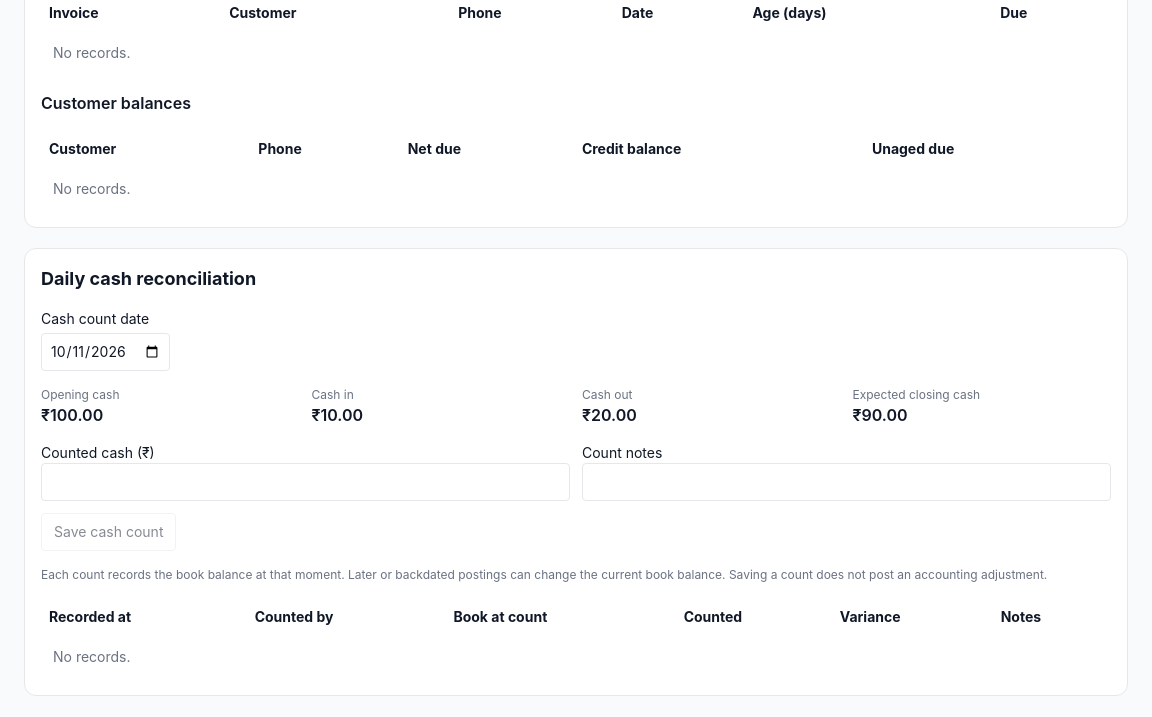
Test: shows ledger-reconciled dues and saves a counted cash variance with its explanation
(page scrolled)
Expected: the text "Expected closing cash" is shown, [852,387,980,402]
Type "85" into the number field labelled "Counted cash (₹)".
click(306, 482); type("85")  # box [41,463,570,501]
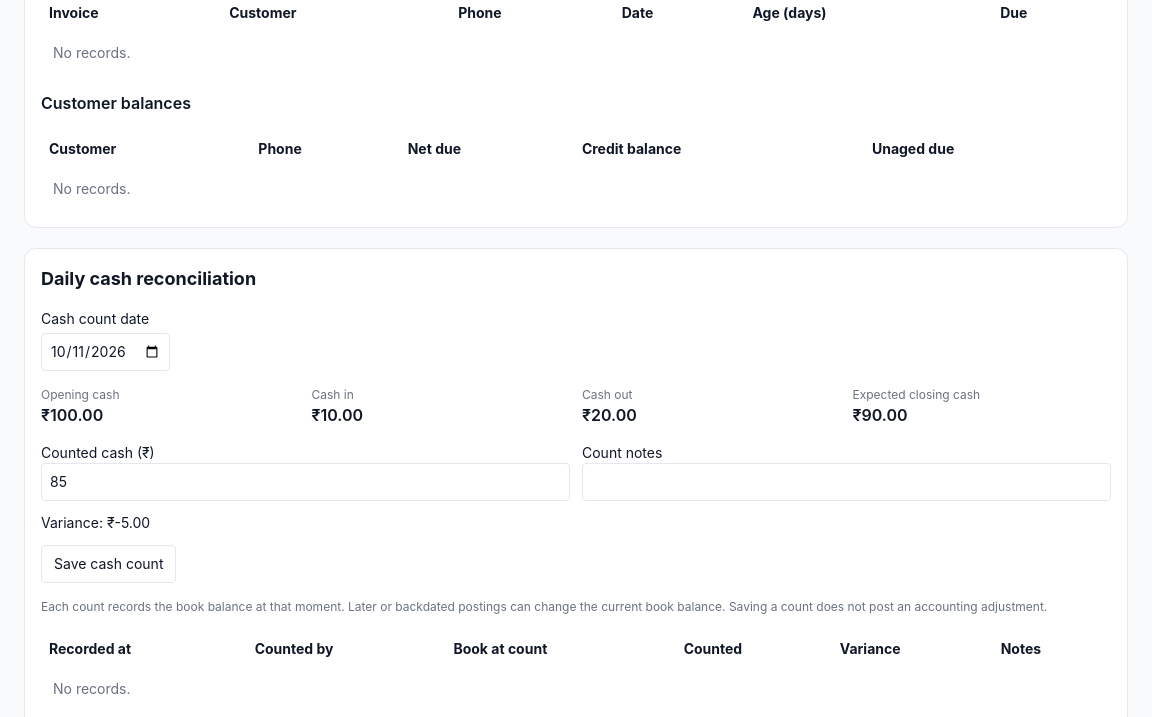
Type "Five rupees short." into the field labelled "Count notes".
click(846, 482); type("Five rupees short.")  # box [582,463,1111,501]
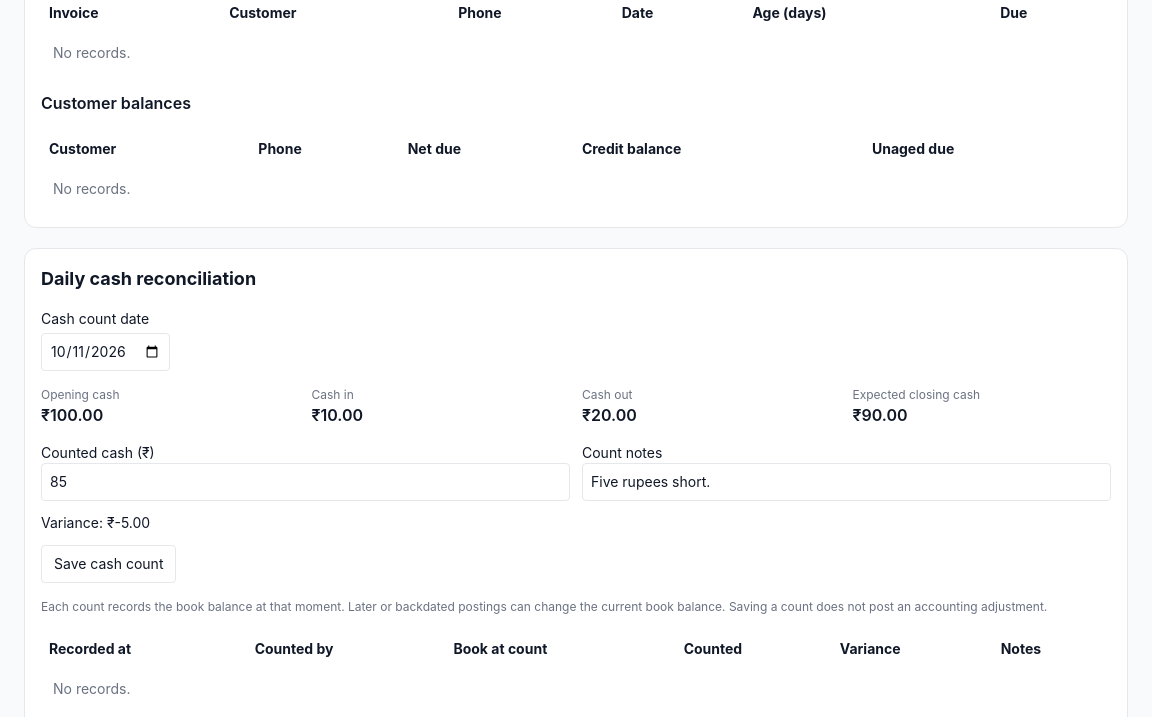
Click the button "Save cash count".
click(109, 564)  # box [41,545,176,583]
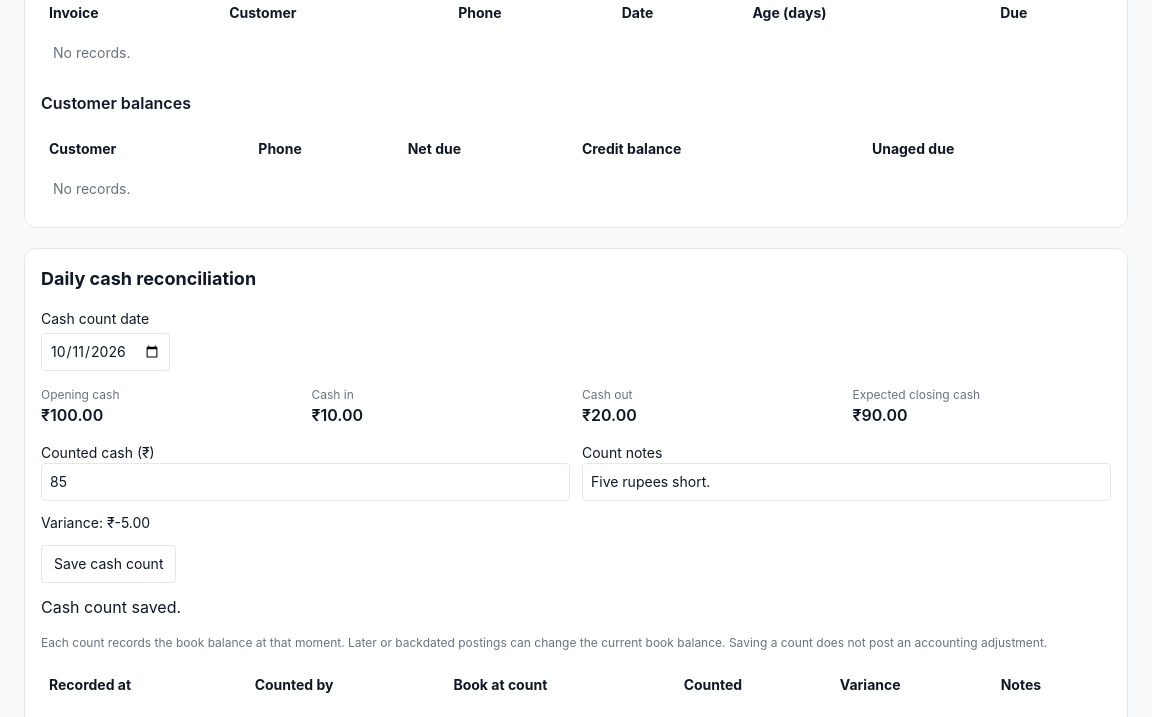
Result: the text "Cash count saved." is shown at [41,597,181,617]
